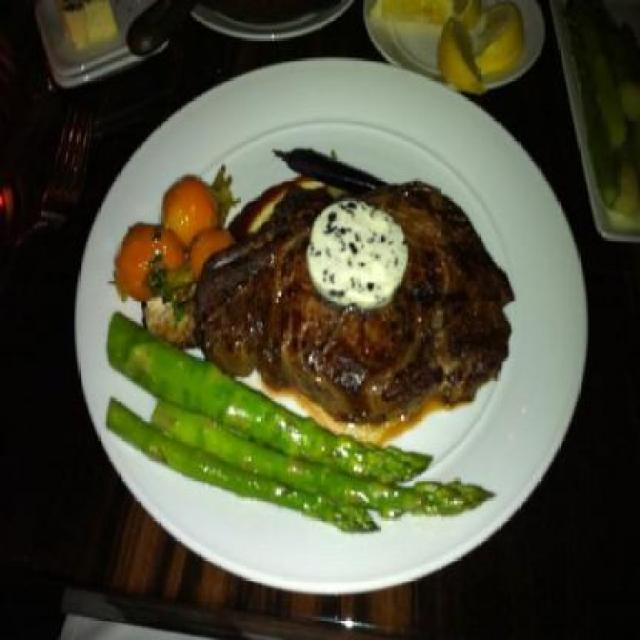Steak: (198, 152, 518, 414)
